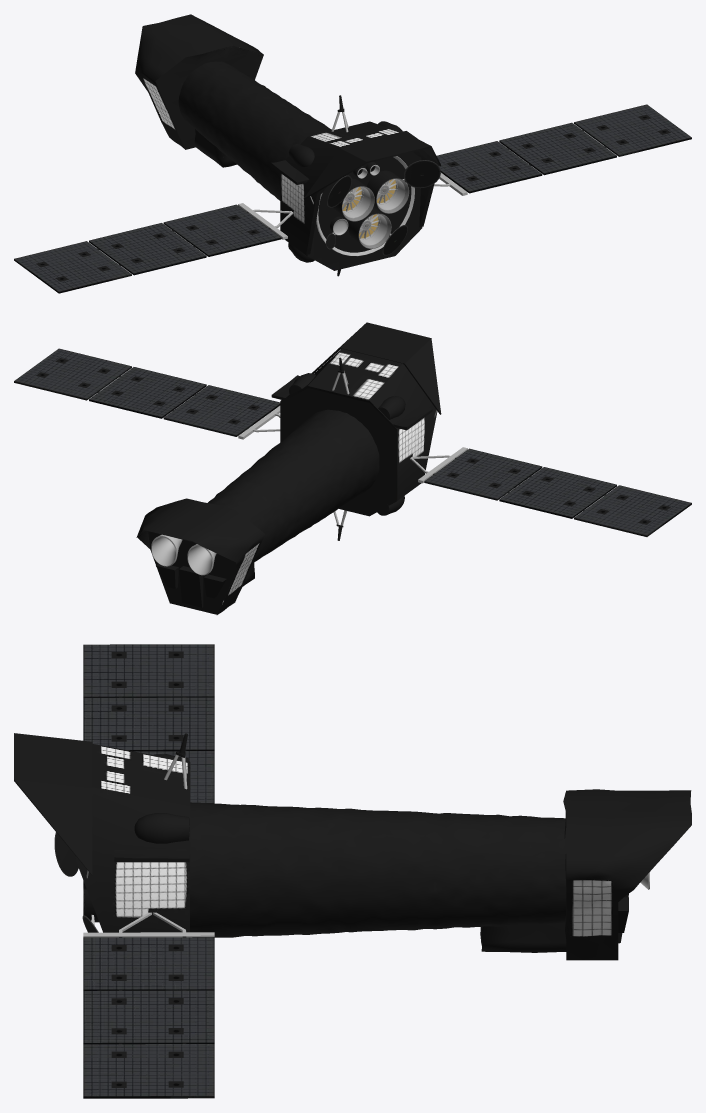
File: xmm-newton.glb
3 renders of one model, top to bottom at view 1: azimuth 30°, elevation 25°; view 2: azimuth 150°, elevation 25°; view 3: azimuth 270°, elevation 25°, orthographic. The views are drawn at different scales.
Parts seen in each view (by area): view 1: XMM_Newton_Mesh; view 2: XMM_Newton_Mesh; view 3: XMM_Newton_Mesh.
Part boxes in pixels (x1=…): XMM_Newton_Mesh: x1=14, y1=14, x2=691, y2=293; XMM_Newton_Mesh: x1=14, y1=322, x2=691, y2=614; XMM_Newton_Mesh: x1=14, y1=644, x2=691, y2=1098.
Bounding box in the file's own units: 15.92 × 4.36 × 10.1.
1 material, 1 textured.
